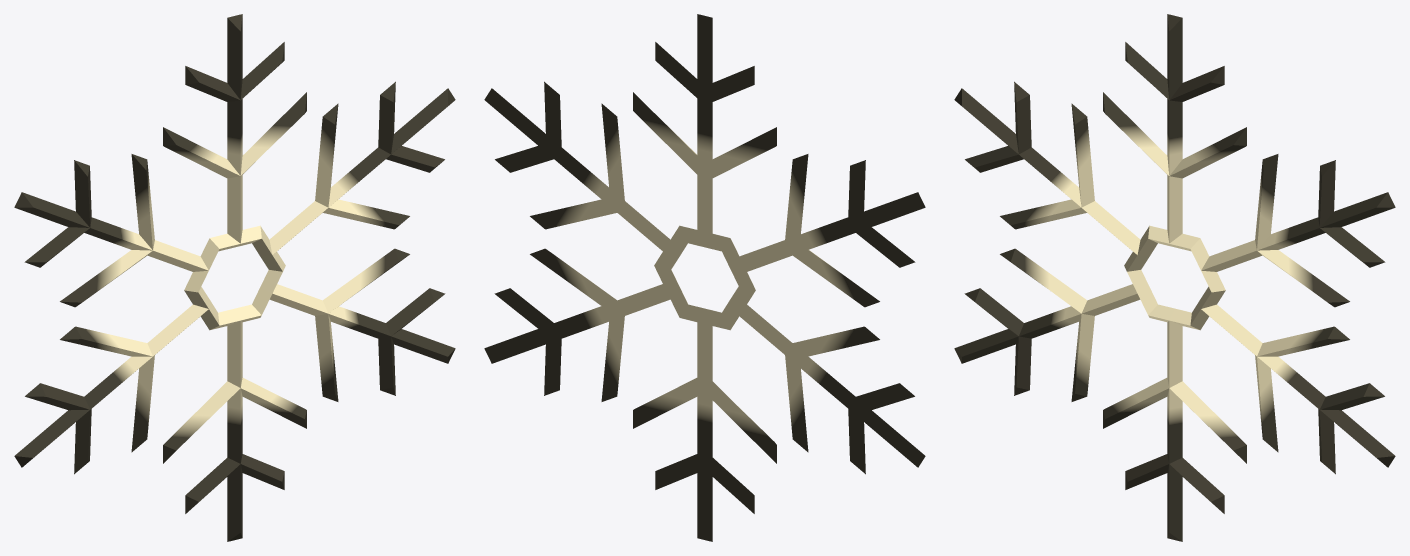
The model's file is SM_Prop_Neon_Snowflake_02.fbx.
3 views of the same model, side by side, from view 1: azimuth 30°, elevation 25°; view 2: azimuth 150°, elevation 25°; view 3: azimuth 330°, elevation 25° (orthographic).
Parts seen in each view (by area): view 1: SM_Prop_Neon_Snowflake_02; view 2: SM_Prop_Neon_Snowflake_02; view 3: SM_Prop_Neon_Snowflake_02.
Part boxes in pixels (left/top/right/bottom): SM_Prop_Neon_Snowflake_02: left=14, top=14, right=455, bottom=541; SM_Prop_Neon_Snowflake_02: left=484, top=14, right=925, bottom=541; SM_Prop_Neon_Snowflake_02: left=954, top=14, right=1395, bottom=541.
Bounding box in the file's own units: 128 × 145 × 2.87.
